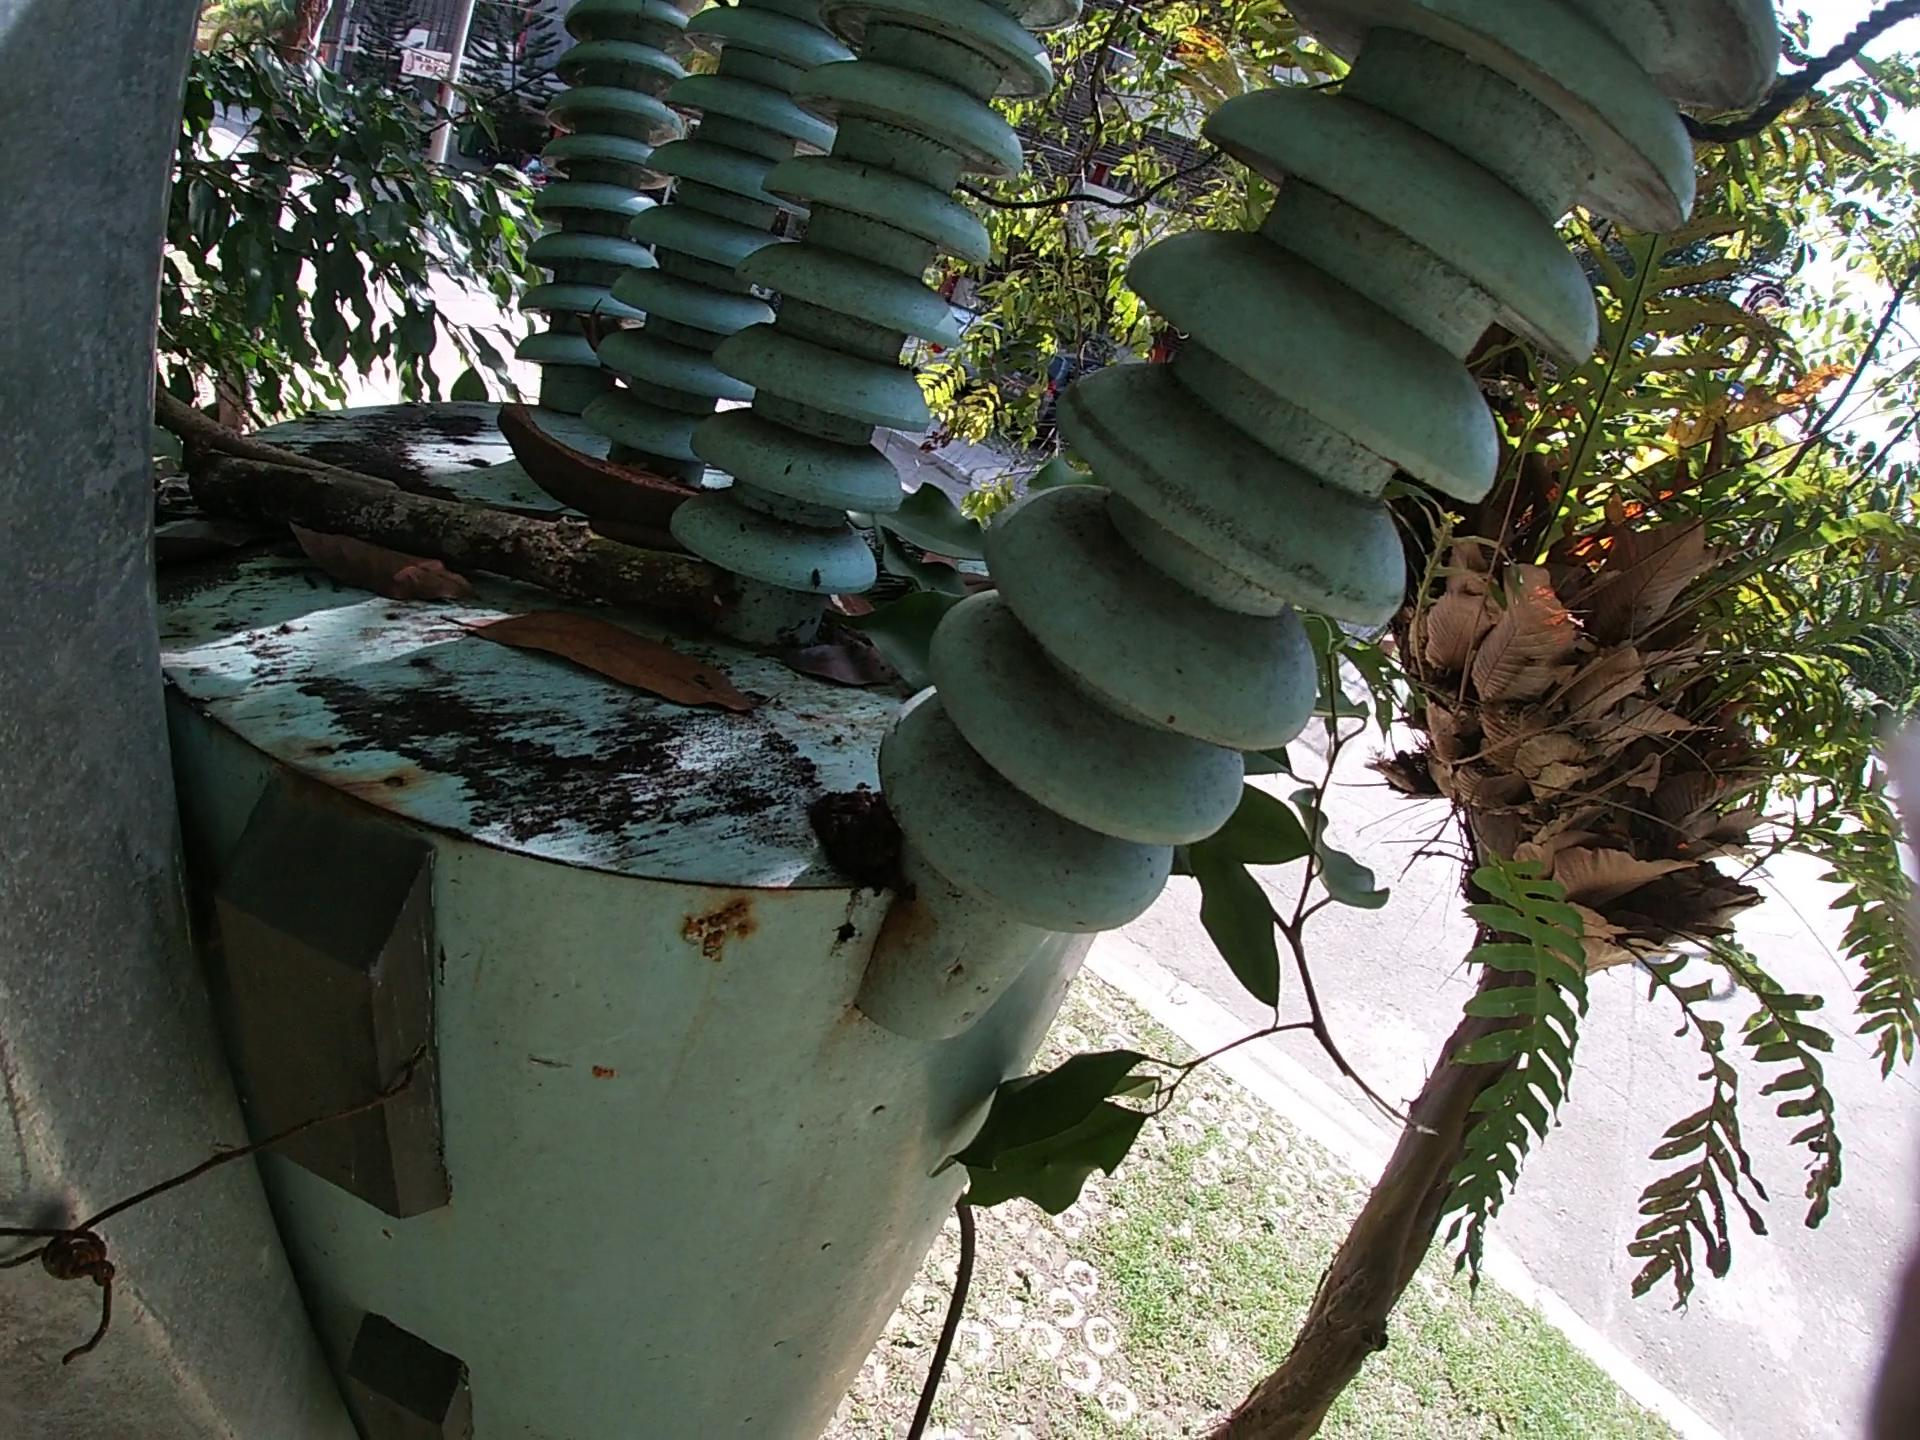branch with leaves: (916, 599, 1447, 1224)
leaf: (432, 607, 776, 725), (272, 513, 491, 607), (770, 635, 909, 693)
mahogany fruit: (485, 404, 717, 557)
tree branch: (183, 443, 736, 623), (147, 389, 401, 487)
